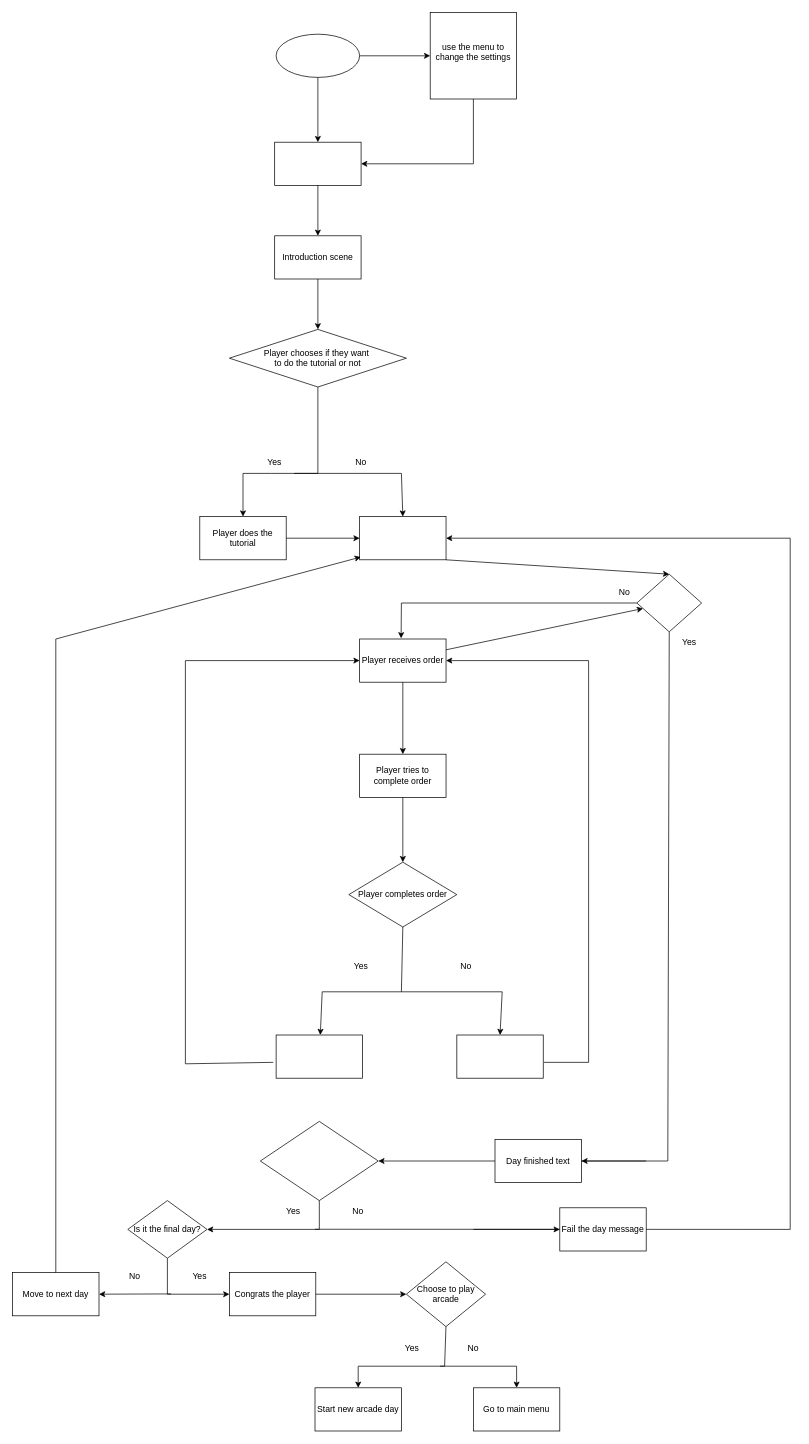
Image size: 809x1444. Some labels were removed from this diagram. Each missing label, with the centre of its shape:
Client leaves angry: (499,1056)
Day finished?: (669,602)
Player achieved money goal of the day: (319,1161)
Player receives money: (319,1056)
Player starts the day: (402,538)
Start: (317,55)
start a new game: (317,163)
